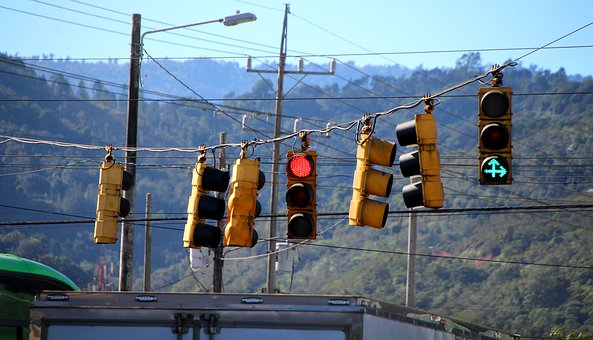trafic: (283, 150, 318, 243), (476, 91, 511, 184)
